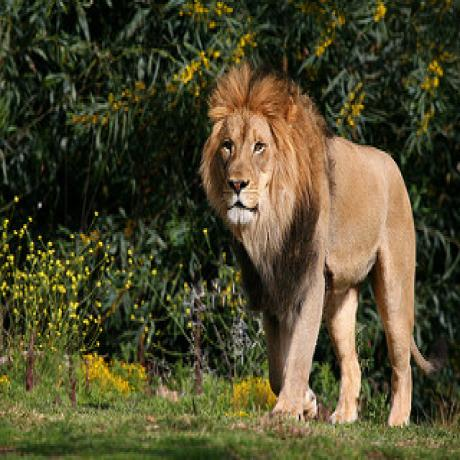Lion: (197, 65, 439, 434)
